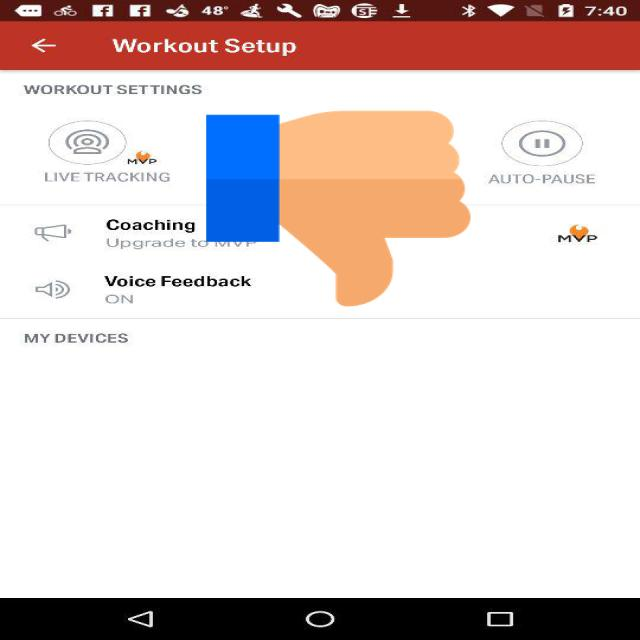obstruction: (206, 106, 471, 311)
